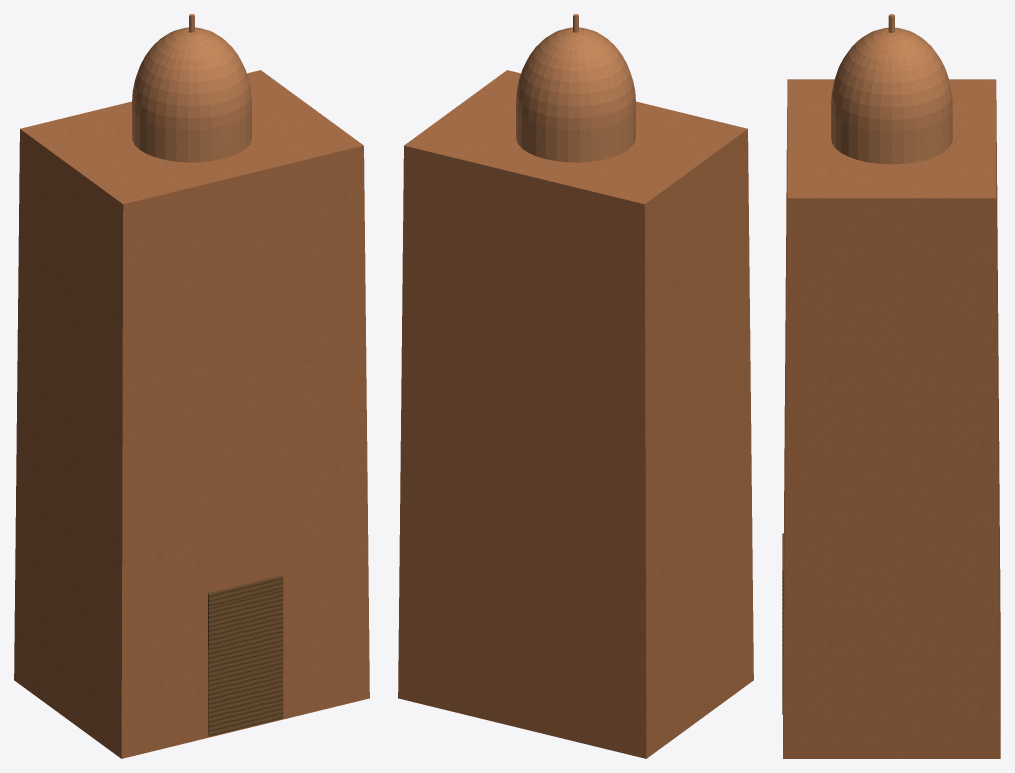
Rendered from SM_Souq_Warehouse_W4D30_Dome.fbx.
3 renders of one model, left to right at view 1: azimuth 30°, elevation 25°; view 2: azimuth 150°, elevation 25°; view 3: azimuth 270°, elevation 25°, orthographic.
Parts seen in each view (by area): view 1: SM_Souq_Warehouse_W4D30_Dome; view 2: SM_Souq_Warehouse_W4D30_Dome; view 3: SM_Souq_Warehouse_W4D30_Dome.
Part boxes in pixels (box(x1,y1,x2,y2)): SM_Souq_Warehouse_W4D30_Dome: box(14, 14, 369, 758); SM_Souq_Warehouse_W4D30_Dome: box(398, 14, 753, 758); SM_Souq_Warehouse_W4D30_Dome: box(782, 14, 1000, 758).
Bounding box in the file's own units: 400 × 1038 × 301.
Materials: 3 (3 with a texture image).
